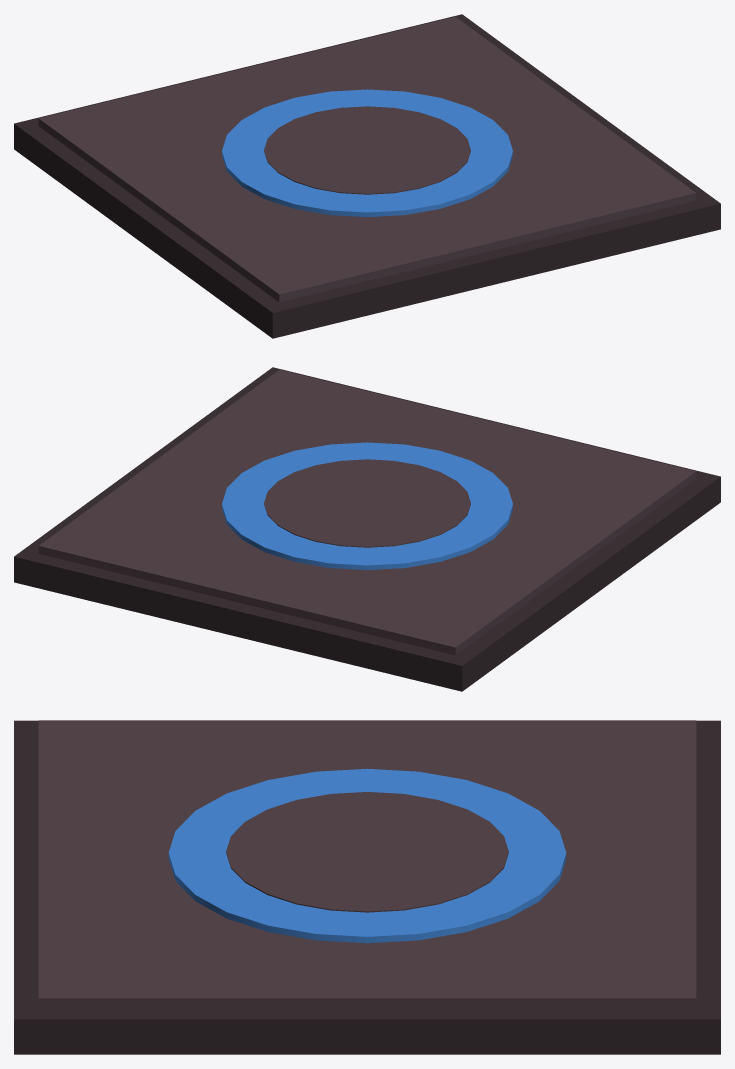
File: k_ember_start.glb
The picture shows the model from 3 angles, top to bottom: view 1: azimuth 30°, elevation 25°; view 2: azimuth 150°, elevation 25°; view 3: azimuth 270°, elevation 25°; orthographic projection. The views are drawn at different scales.
Parts seen in each view (by area): view 1: piece; view 2: piece; view 3: piece.
Boxes of the visible parts, left/top/right/bottom form: piece: left=14, top=14, right=720, bottom=338; piece: left=14, top=367, right=720, bottom=691; piece: left=14, top=720, right=720, bottom=1054.
Size of the model in its own units: 1 by 0.0837 by 1.
